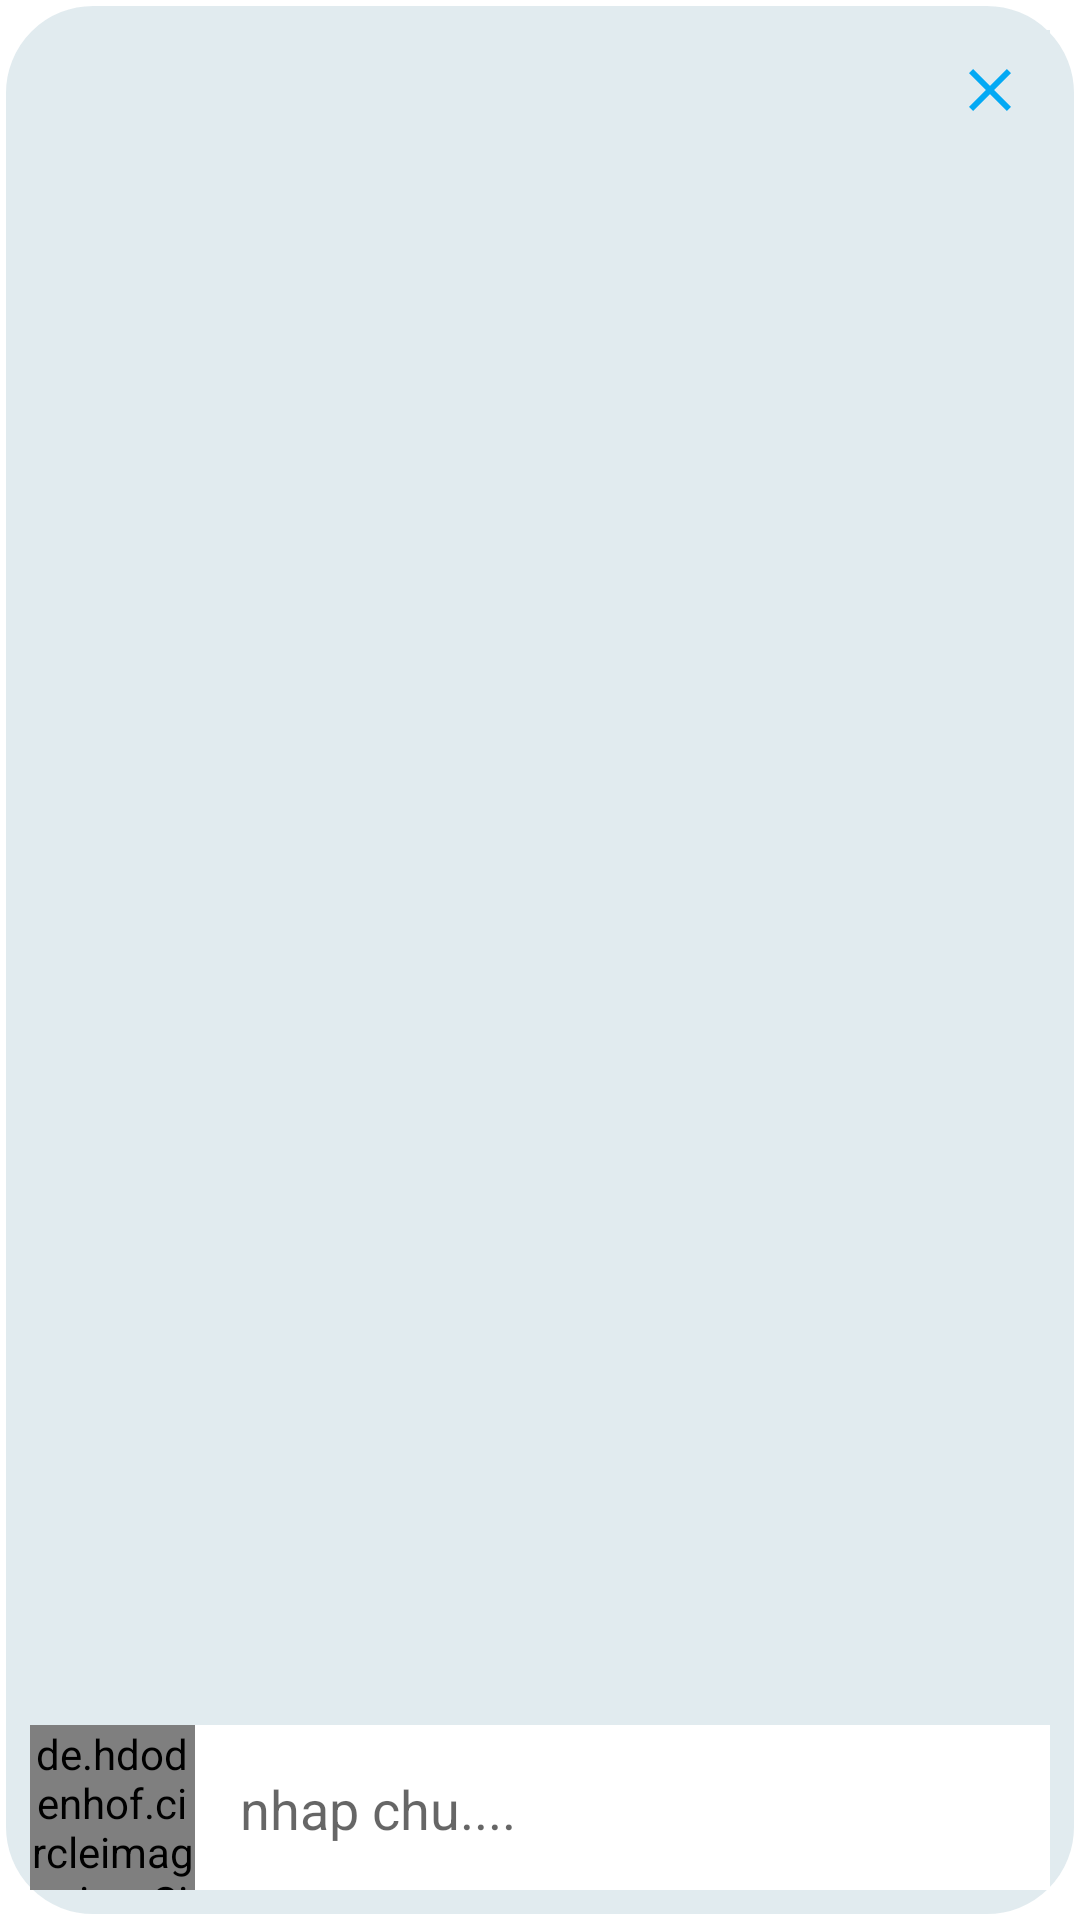

Icon bounding boxes for this 1080x1920 phone screenshot, format (x1, y1, x2, y2):
close: (969, 69, 1011, 111)
